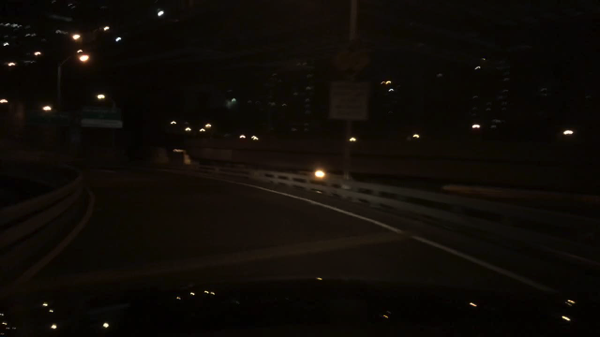traffic sign: (330, 38, 371, 80), (329, 80, 367, 123), (82, 107, 122, 130), (30, 110, 74, 128)
